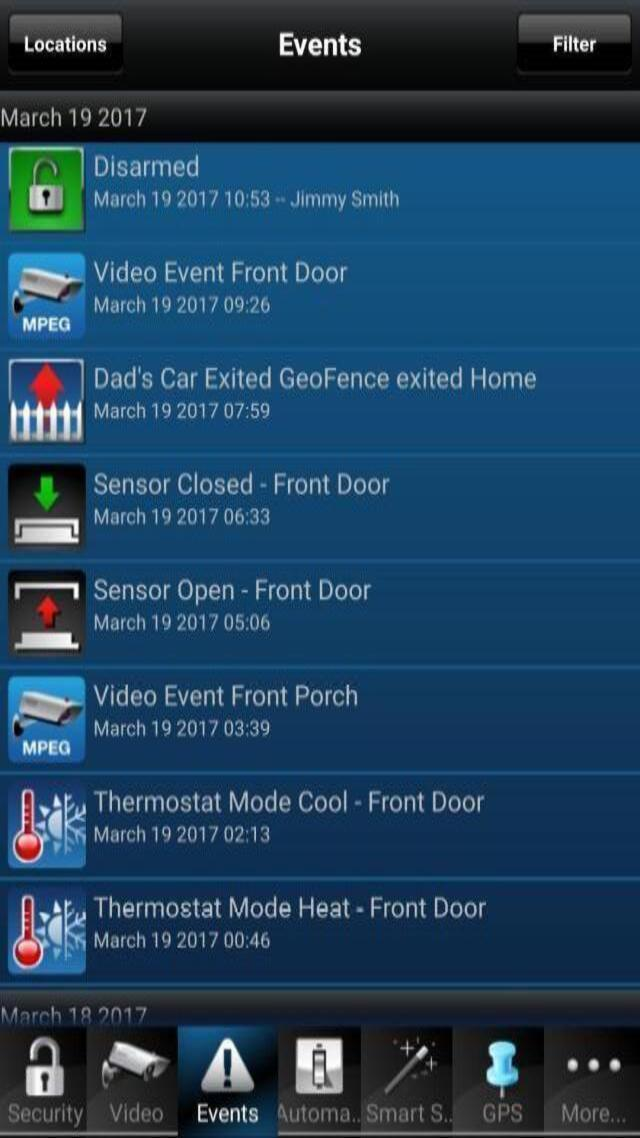Icon: (8, 888, 88, 975), (8, 675, 85, 764), (7, 254, 88, 337), (8, 359, 86, 443), (9, 147, 84, 232), (8, 790, 86, 870), (10, 463, 86, 543), (11, 574, 87, 651)
Text: (91, 359, 542, 391), (92, 786, 490, 818), (91, 892, 502, 922), (92, 574, 376, 608), (90, 468, 396, 497), (88, 255, 353, 287), (92, 680, 366, 709), (92, 188, 404, 213), (91, 292, 280, 321), (2, 100, 156, 134), (90, 928, 281, 955), (90, 398, 279, 424), (89, 716, 278, 741), (89, 824, 277, 849), (90, 612, 273, 635), (91, 506, 274, 528), (89, 153, 202, 181)
TextButton: (182, 1028, 270, 1136), (366, 1030, 454, 1132), (458, 1031, 544, 1131), (5, 1031, 89, 1131), (553, 1030, 635, 1131), (278, 1030, 358, 1132), (95, 1031, 175, 1131), (517, 16, 635, 80), (265, 15, 374, 78), (13, 14, 124, 73)
